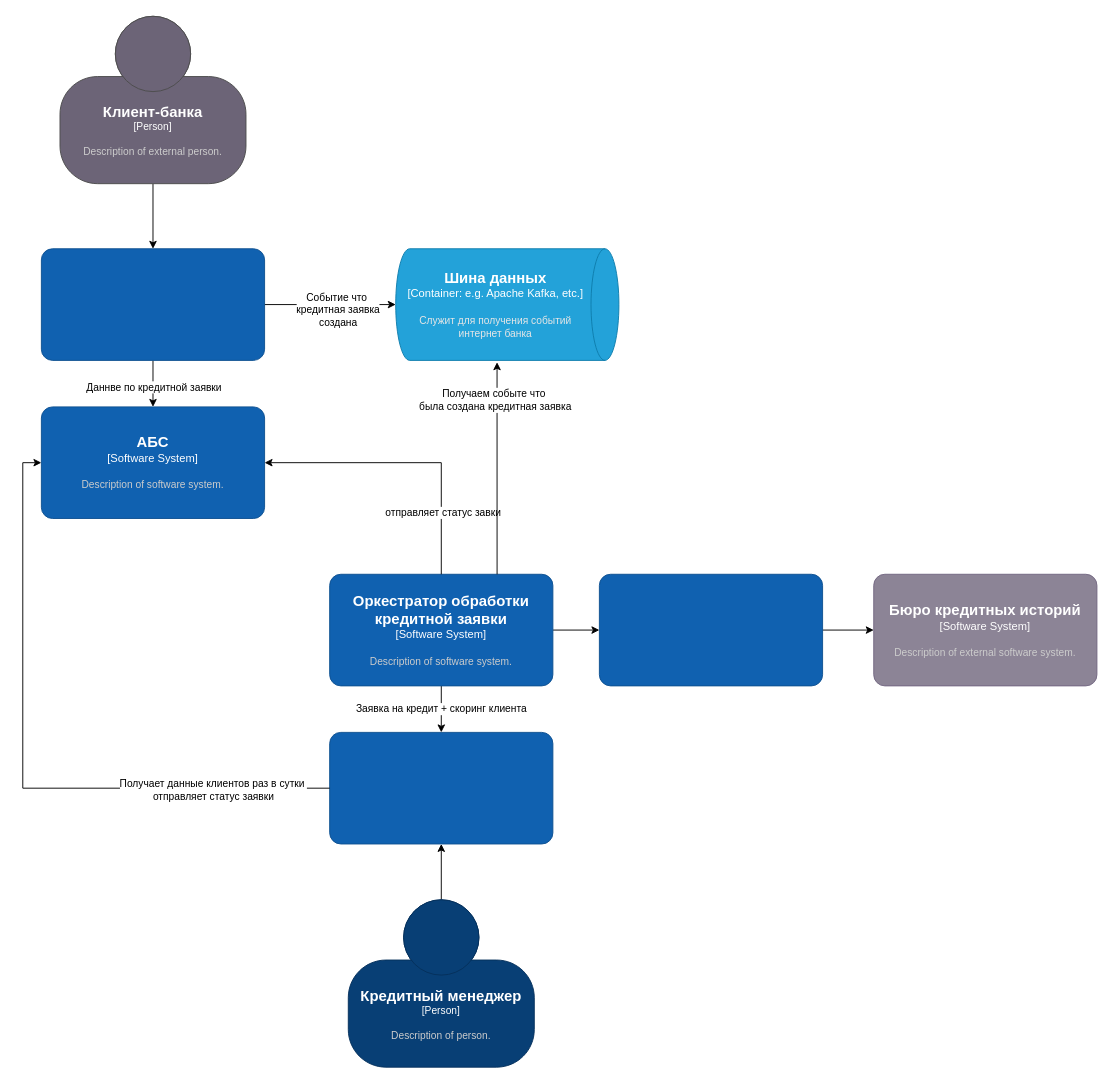
Image size: 1113x1083. Some labels were removed from this diagram. Each missing label, with the centre of its shape:
"Интернет банк [Software System] Description of software system." belongs at point (152, 304).
"Кредитный конвейр [Software System] Description of software system." belongs at point (441, 787).
"Система кредитного скоринга [Software System] Description of software system." belongs at point (710, 629).
